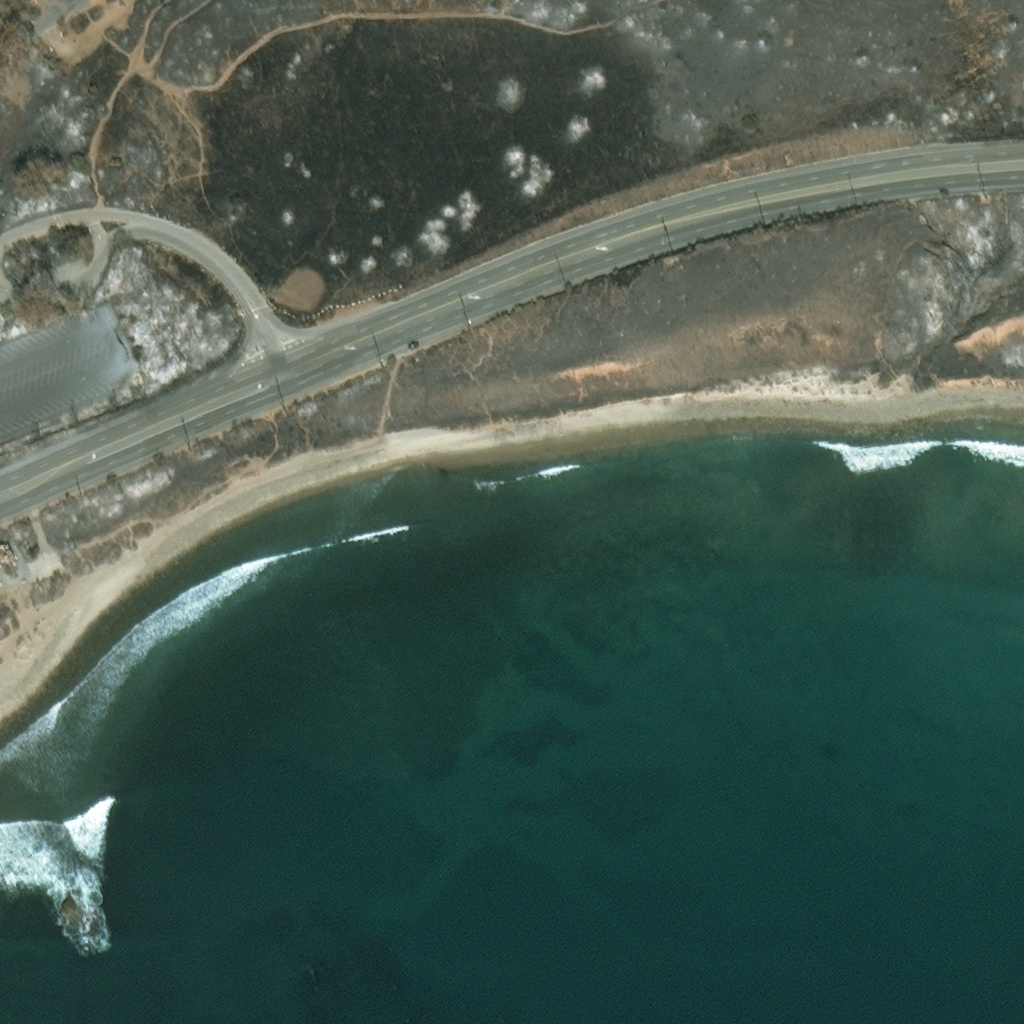3 destroyed: (0, 542, 16, 564), (61, 541, 75, 555)
